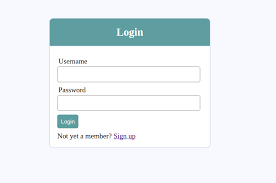button: (55, 114, 81, 130)
textbox: (55, 93, 204, 113)
